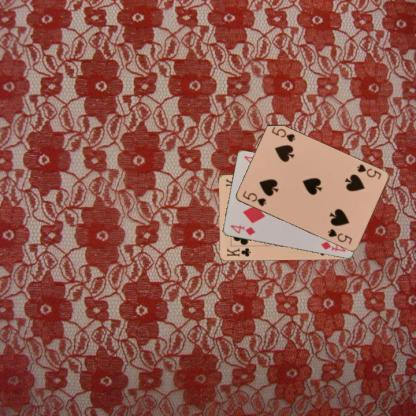4d: (228, 222, 257, 236)
5s: (354, 161, 383, 181), (240, 188, 268, 207)
Kc: (224, 246, 252, 258)
